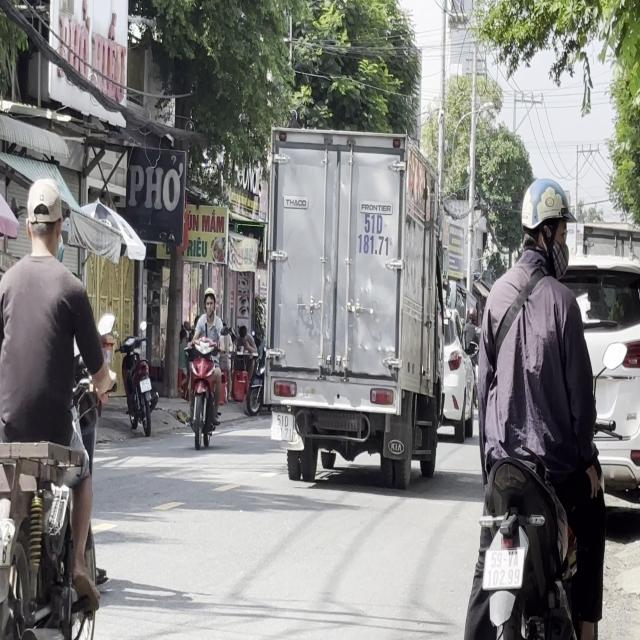helmet: (519, 178, 572, 266), (204, 288, 216, 320)
licenseplate: (461, 172, 618, 634), (0, 175, 114, 635), (187, 288, 225, 452)
motorcyclist: (23, 177, 65, 257)
nohelmet: (483, 548, 523, 588)
